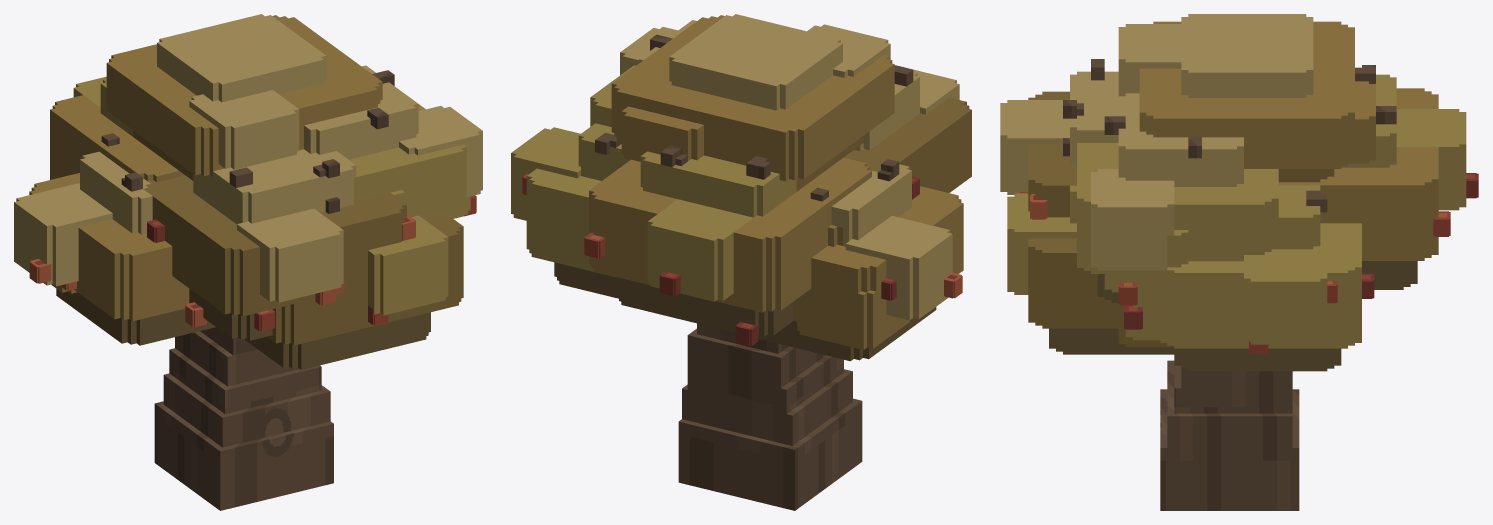
File: apple_ancient_autumn_fruiting_3.glb
3 views of the same model, side by side, from view 1: azimuth 30°, elevation 25°; view 2: azimuth 150°, elevation 25°; view 3: azimuth 270°, elevation 25° (orthographic). The views are drawn at different scales.
Visible parts, largest first — view 1: VoxelVisual; view 2: VoxelVisual; view 3: VoxelVisual.
Boxes of the visible parts, x1=… form: VoxelVisual: x1=14, y1=14, x2=482, y2=510; VoxelVisual: x1=511, y1=14, x2=971, y2=510; VoxelVisual: x1=1000, y1=14, x2=1478, y2=510.
Size of what is drawn, in the model's own units: 17.94 by 17.5 by 17.19.
